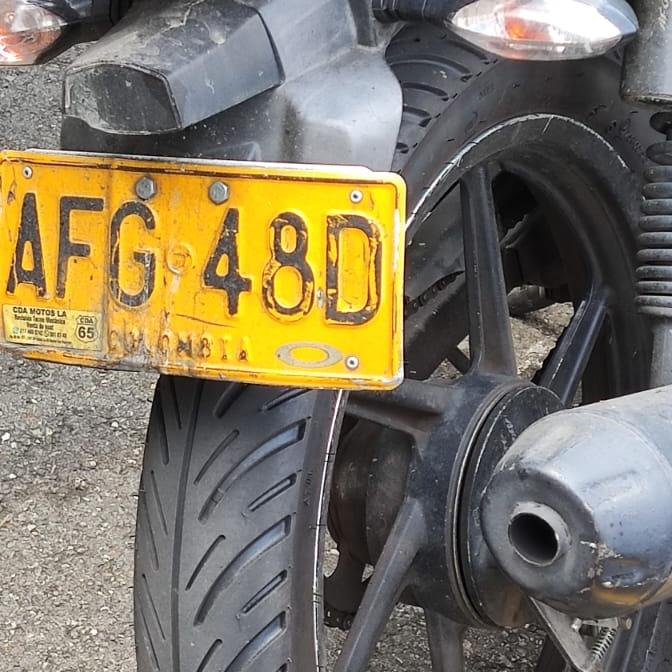plates: (0, 146, 401, 393)
